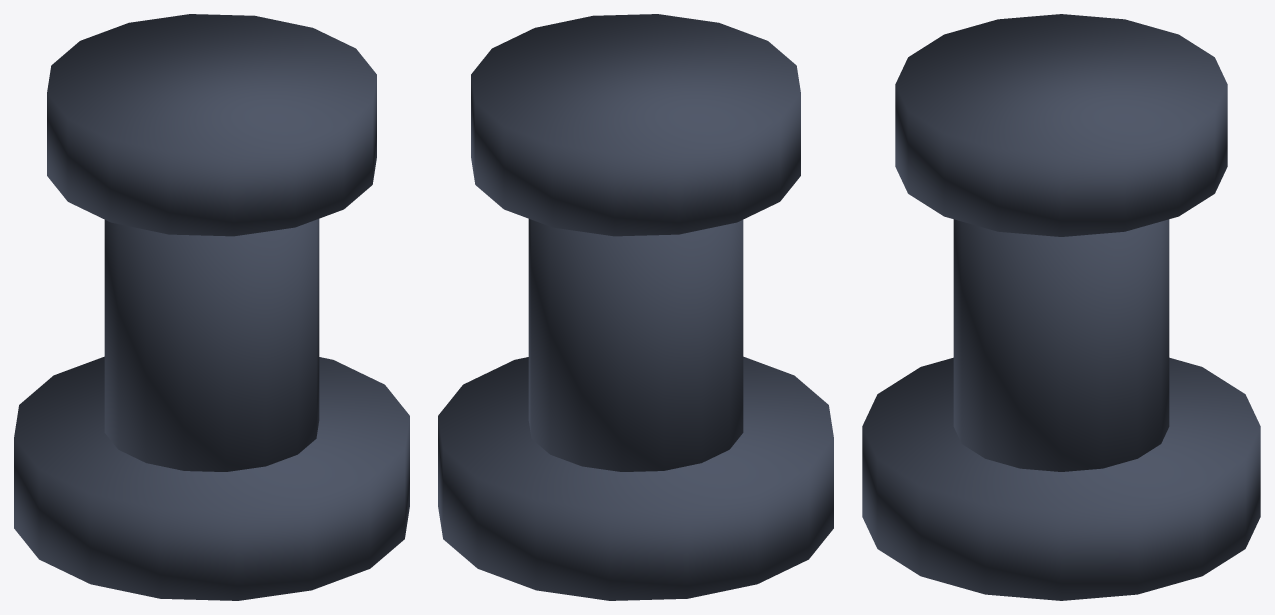
The model's file is mooring_bollard.glb.
3 renders of one model, left to right at view 1: azimuth 30°, elevation 25°; view 2: azimuth 150°, elevation 25°; view 3: azimuth 270°, elevation 25°, orthographic.
Parts seen in each view (by area): view 1: Bollard_mushroom_cap, Bollard_flanged_foot, Bollard_iron_shaft; view 2: Bollard_mushroom_cap, Bollard_flanged_foot, Bollard_iron_shaft; view 3: Bollard_mushroom_cap, Bollard_flanged_foot, Bollard_iron_shaft.
Part boxes in pixels (x1=…): Bollard_mushroom_cap: x1=47, y1=14, x2=376, y2=236; Bollard_flanged_foot: x1=14, y1=356, x2=409, y2=600; Bollard_iron_shaft: x1=104, y1=219, x2=319, y2=471; Bollard_mushroom_cap: x1=471, y1=14, x2=800, y2=236; Bollard_flanged_foot: x1=438, y1=356, x2=833, y2=600; Bollard_iron_shaft: x1=528, y1=219, x2=743, y2=471; Bollard_mushroom_cap: x1=895, y1=14, x2=1227, y2=236; Bollard_flanged_foot: x1=862, y1=357, x2=1260, y2=600; Bollard_iron_shaft: x1=953, y1=219, x2=1169, y2=471.
Bounding box in the file's own units: 0.24 × 0.2875 × 0.24.
